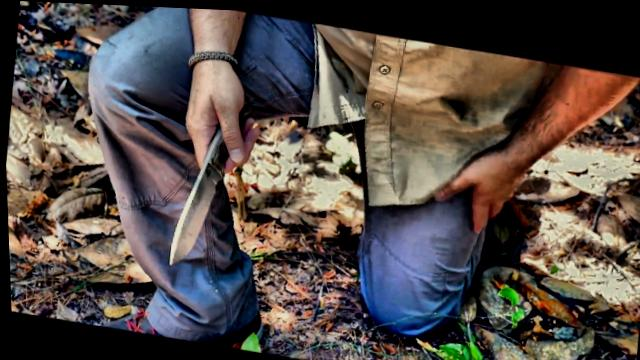knife: (153, 102, 267, 284)
